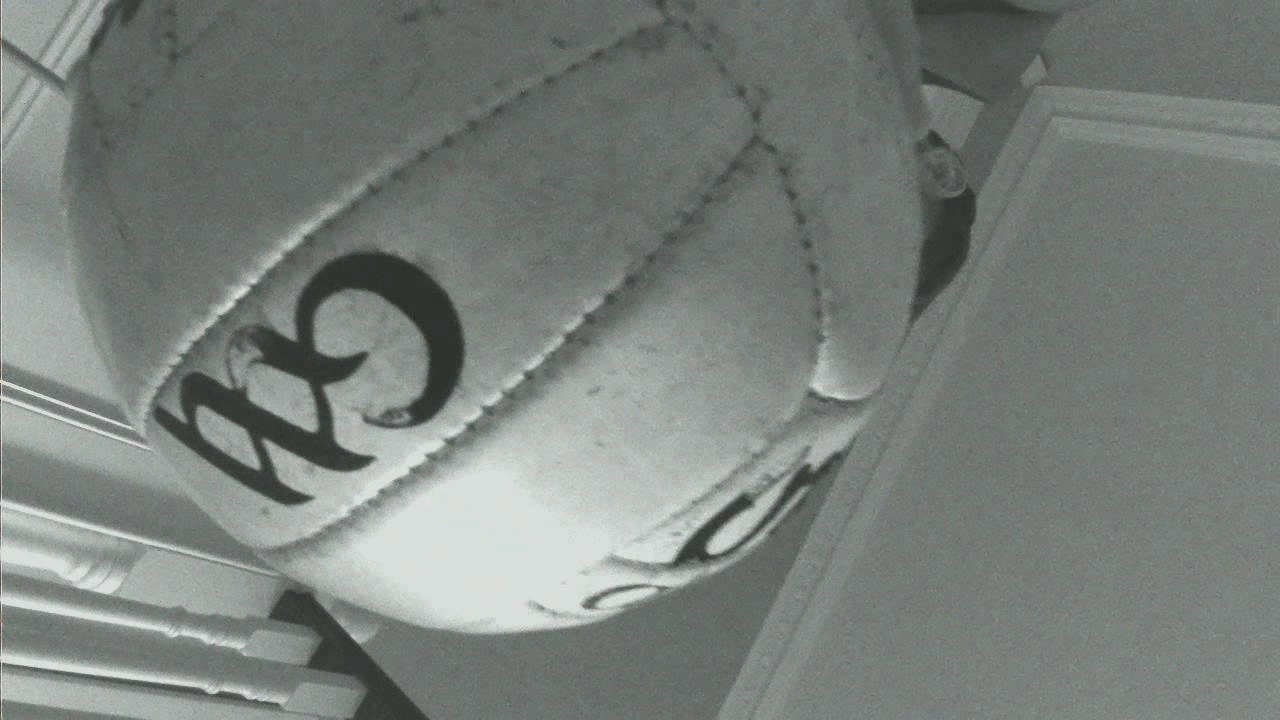Football-Spotter: (64, 0, 922, 631)
